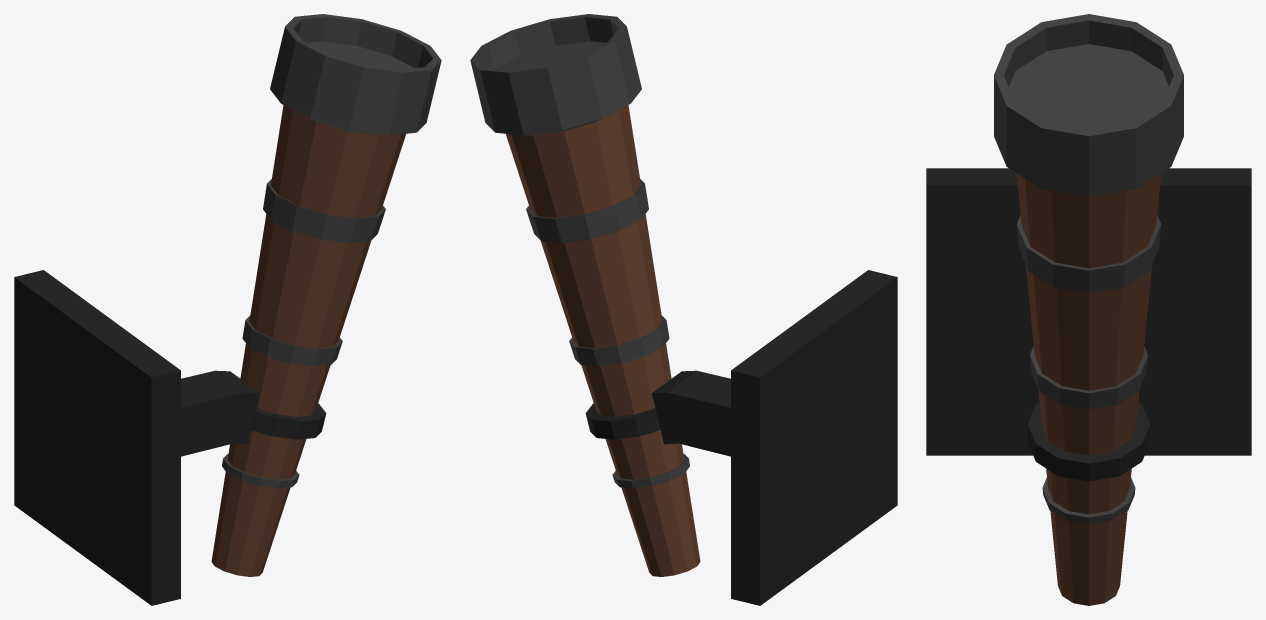
File: torch.glb
The picture shows the model from 3 angles, left to right: view 1: azimuth 30°, elevation 25°; view 2: azimuth 150°, elevation 25°; view 3: azimuth 270°, elevation 25°; orthographic projection. The views are drawn at different scales.
Parts seen in each view (by area): view 1: Cylinder, Cube; view 2: Cylinder, Cube; view 3: Cylinder, Cube.
Boxes of the visible parts, x1=… form: Cylinder: x1=211, y1=14, x2=441, y2=576; Cube: x1=14, y1=270, x2=326, y2=605; Cylinder: x1=470, y1=14, x2=700, y2=576; Cube: x1=585, y1=270, x2=897, y2=605; Cylinder: x1=994, y1=14, x2=1183, y2=605; Cube: x1=926, y1=168, x2=1251, y2=481.
Bounding box in the file's own units: 0.3279 × 0.4672 × 0.2245.
Materials: 1 (1 with a texture image).
